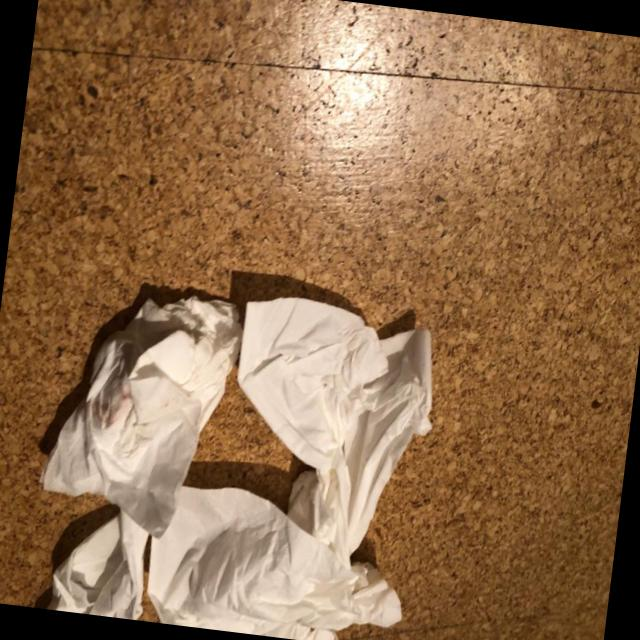organic waste: (216, 288, 449, 564), (24, 282, 244, 542), (140, 481, 417, 640), (41, 503, 160, 621)
